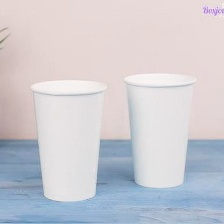paper_cup: (25, 74, 112, 205), (118, 68, 200, 191)
